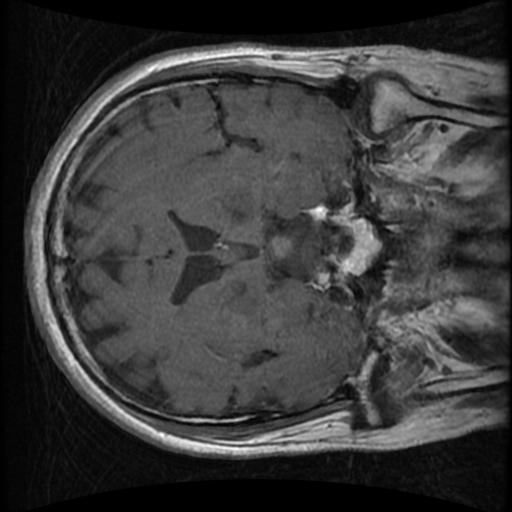pituitary tumour: (269, 209, 379, 282)
